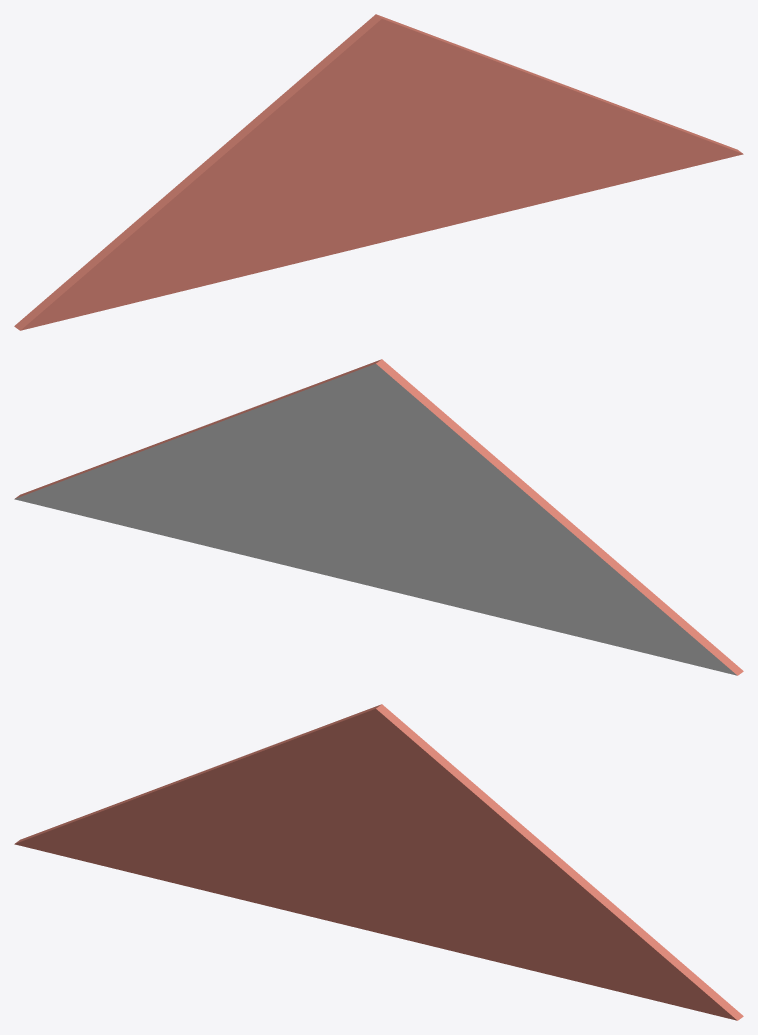
File: Wall1_C6_20.fbx
The picture shows the model from 3 angles, top to bottom: view 1: azimuth 30°, elevation 25°; view 2: azimuth 150°, elevation 25°; view 3: azimuth 330°, elevation 25°; orthographic projection.
Parts seen in each view (by area): view 1: Wall1_C6_20; view 2: Wall1_C6_20; view 3: Wall1_C6_20.
Boxes of the visible parts, box(x1,y1,x2,y2) form: Wall1_C6_20: box(14, 14, 743, 330); Wall1_C6_20: box(14, 359, 743, 675); Wall1_C6_20: box(14, 704, 743, 1020).
Bounding box in the file's own units: 1015 × 300 × 15.
